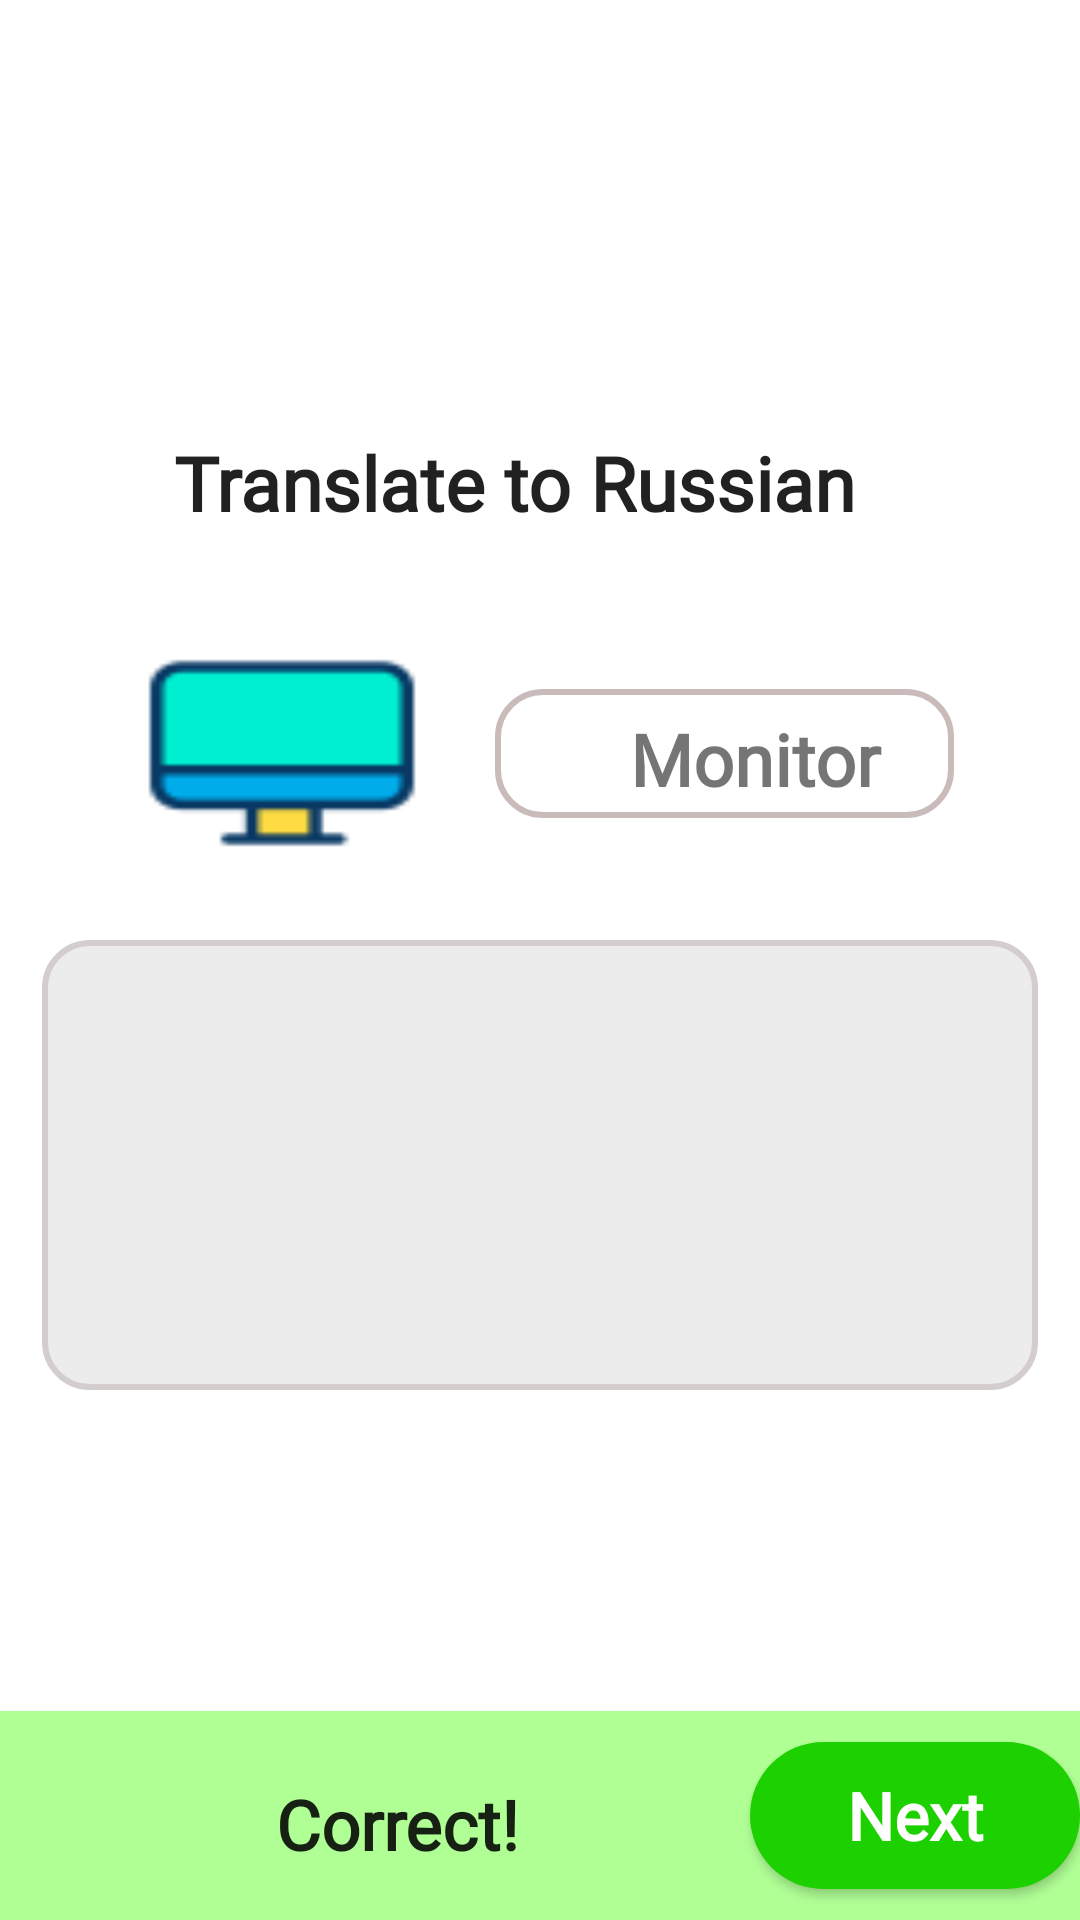

Icon click points for this 1080 × 1920 phone screenshot, format (x,y):
monitor: (282,753)
